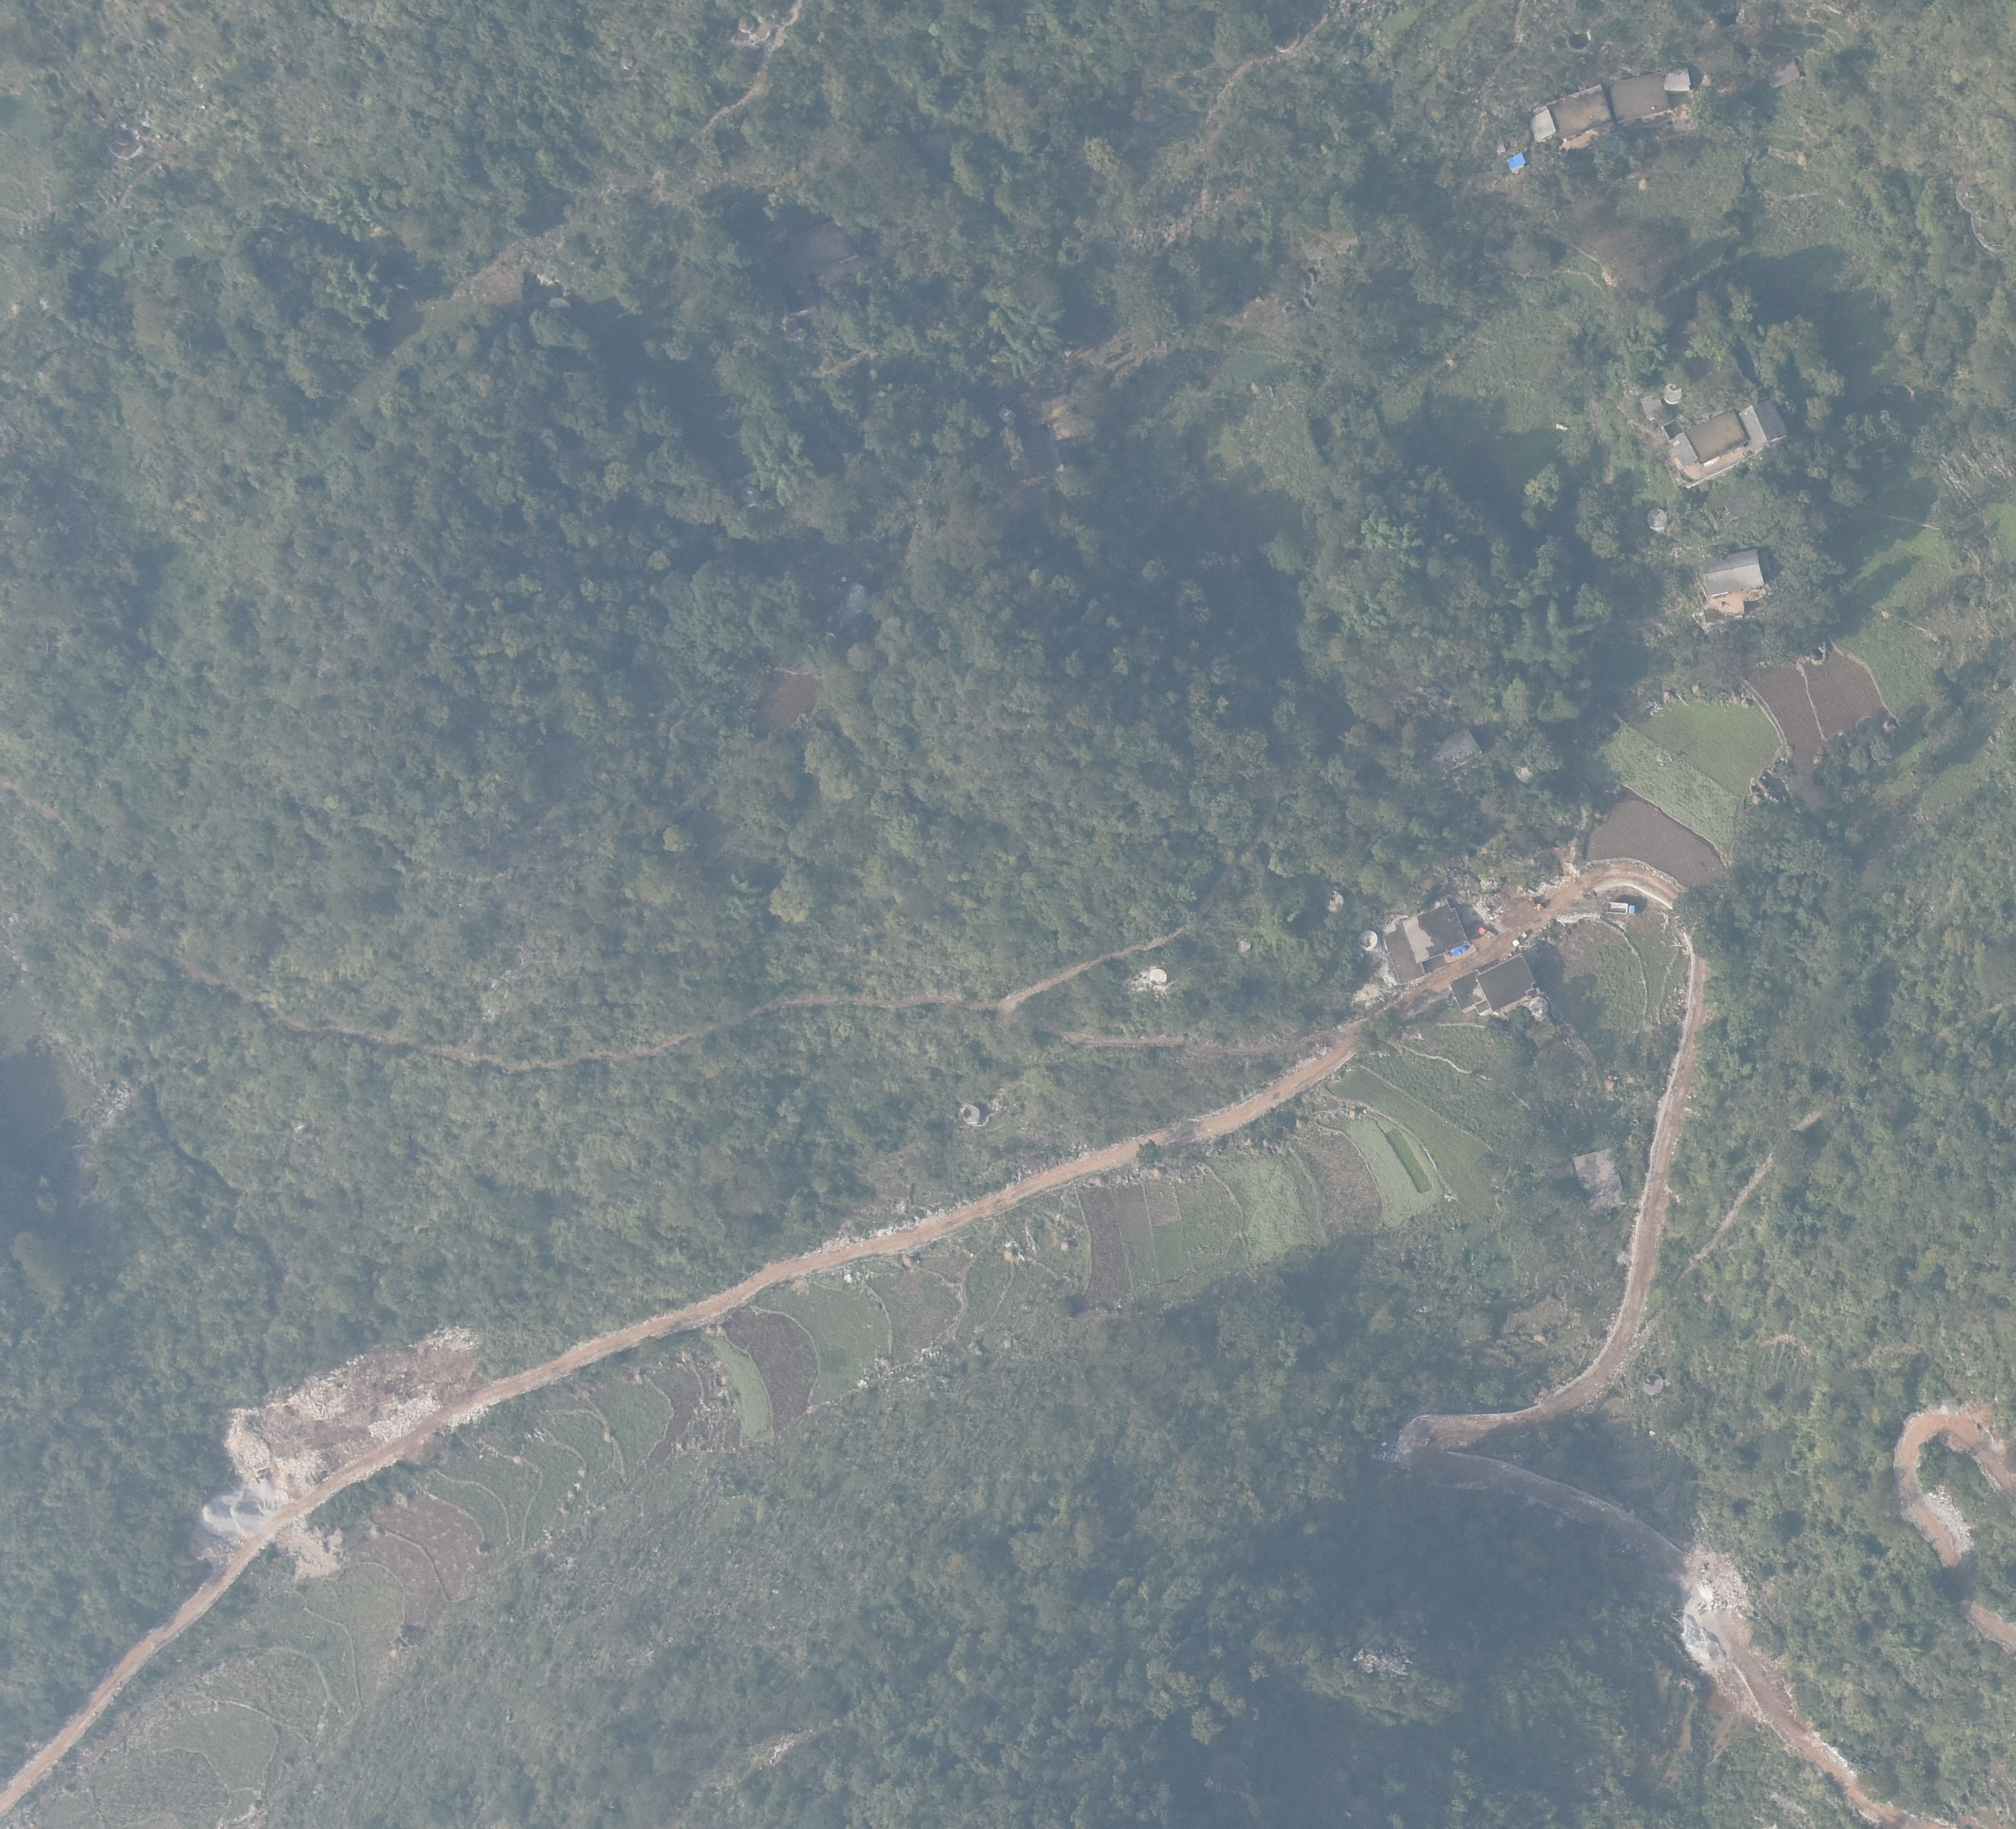building: (1380, 900, 1473, 985), (1688, 548, 1770, 602), (1660, 411, 1747, 460), (1535, 88, 1612, 142), (1419, 723, 1486, 776), (1607, 70, 1670, 121), (1740, 400, 1791, 449), (1661, 65, 1696, 91)
prefabricated-house: (1505, 151, 1531, 174)
quarry: (170, 1316, 492, 1541)
vehicle: (1605, 897, 1637, 914), (1477, 925, 1496, 939), (1512, 930, 1528, 946)
well: (1442, 955, 1537, 1020), (1350, 927, 1379, 953), (1644, 504, 1668, 532), (1321, 890, 1347, 913), (961, 1101, 982, 1125), (1663, 381, 1684, 404), (1530, 997, 1551, 1016), (1148, 969, 1171, 985)
